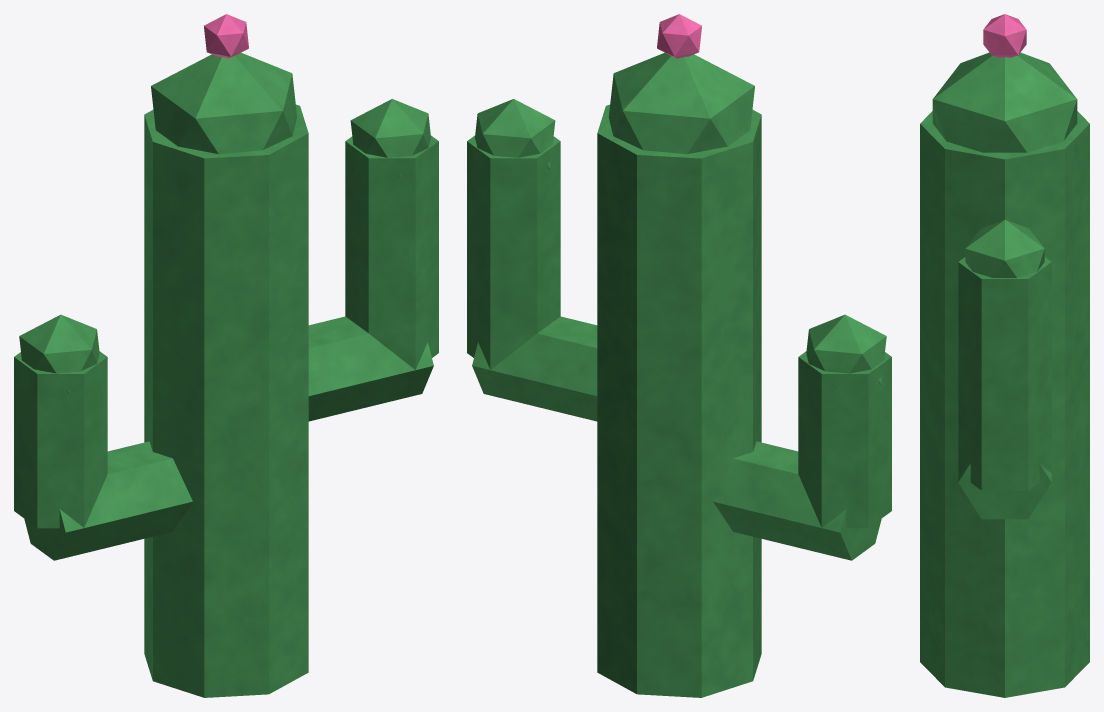
File: cactus.fbx
3 renders of one model, left to right at view 1: azimuth 30°, elevation 25°; view 2: azimuth 150°, elevation 25°; view 3: azimuth 270°, elevation 25°, orthographic.
Parts seen in each view (by area): view 1: Cactus; view 2: Cactus; view 3: Cactus.
Boxes of the visible parts, x1,y1,x2,y2 form: Cactus: (14,14,438,697); Cactus: (467,14,891,697); Cactus: (920,14,1089,697).
Size of the model in its own units: 2.19 by 3.37 by 0.8.
Materials: 1 (1 with a texture image).
